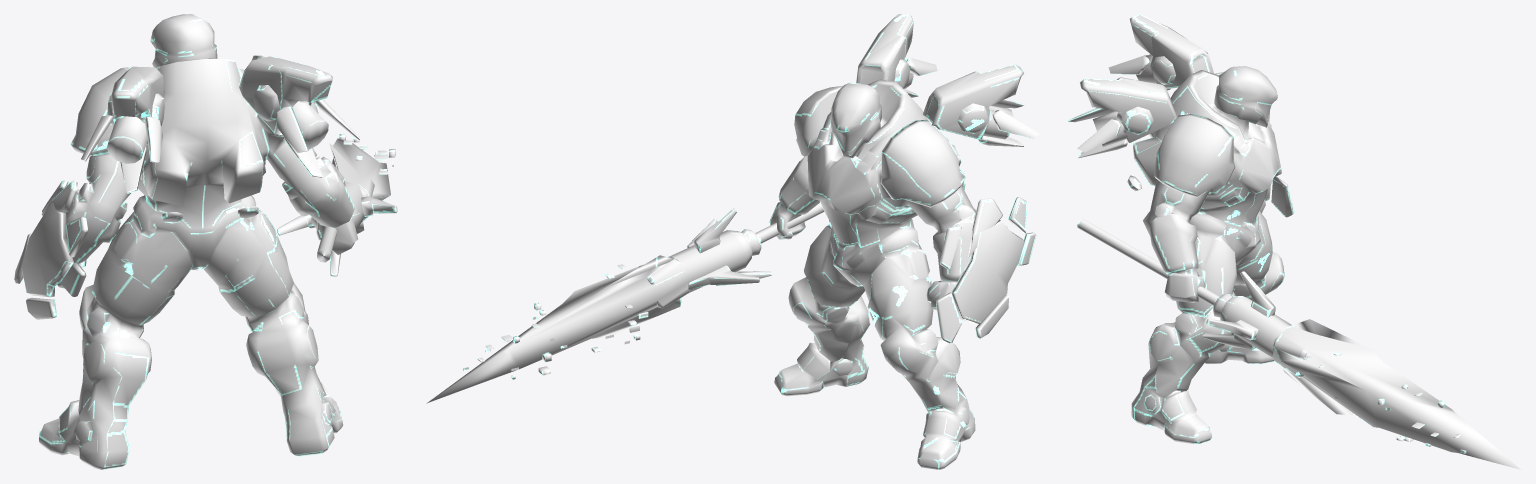
Rendered from chevalier_v3.glb.
The picture shows the model from 3 angles, left to right: view 1: azimuth 30°, elevation 25°; view 2: azimuth 150°, elevation 25°; view 3: azimuth 270°, elevation 25°; orthographic projection. The views are drawn at different scales.
Parts seen in each view (by area): view 1: chevalier_v3; view 2: chevalier_v3; view 3: chevalier_v3.
Part boxes in pixels (box(x1,y1,x2,y2)): chevalier_v3: box(14, 14, 397, 469); chevalier_v3: box(426, 14, 1039, 469); chevalier_v3: box(1068, 14, 1520, 469).
Bounding box in the file's own units: 2.6 × 2.07 × 2.54.
1 material, 1 textured.
